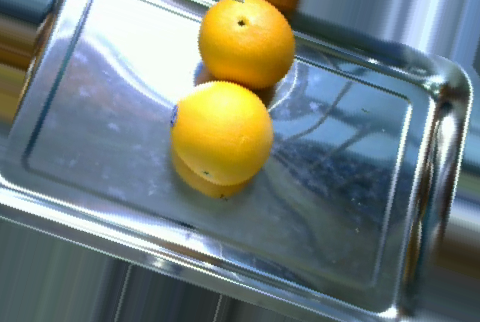Orange: (168, 80, 273, 184), (197, 0, 295, 89)
